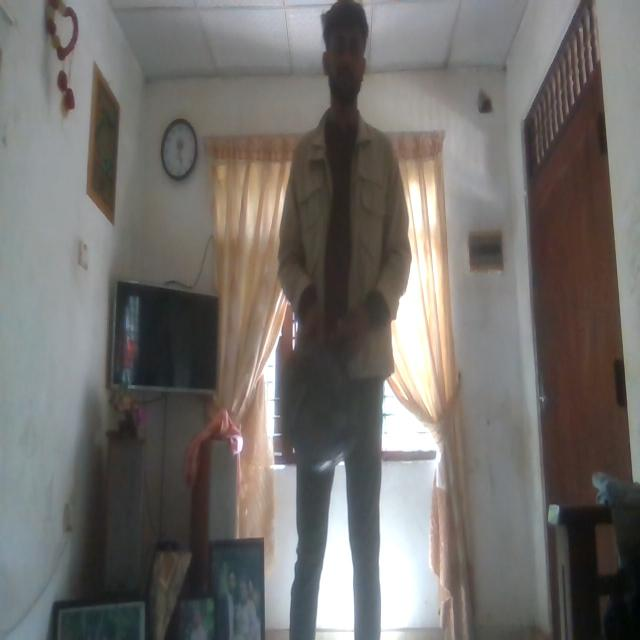Jacket_Wearer: (278, 100, 413, 392)
Person: (279, 2, 409, 640)
